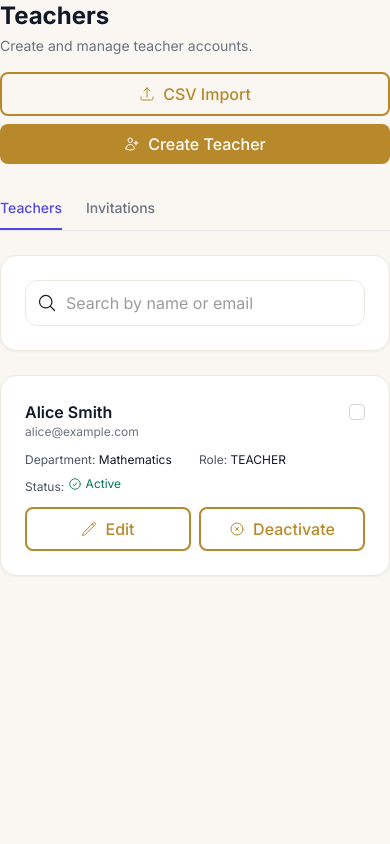
TeachersPage › edit modal › clicking Edit opens modal pre-populated with teacher fields
The image size is (390, 844).
Mobile card Edit button (desktop table has icon-only edit button)
What coordinates should you click on to do the following:
click the button "Edit"
I would click on:
 (108, 529)
Its box is x1=25 y1=507 x2=191 y2=551.
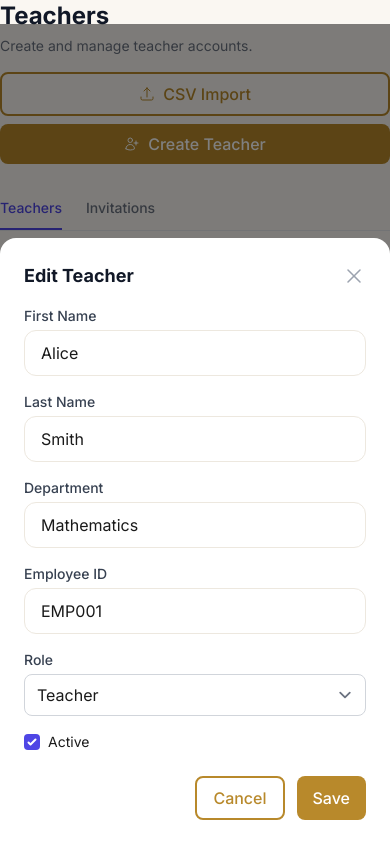
Check: the heading "Edit Teacher" is shown, box x1=24 y1=262 x2=134 y2=290
Check: the field showing "Alice" is shown, box x1=24 y1=330 x2=366 y2=376
Check: the field showing "Smith" is shown, box x1=24 y1=416 x2=366 y2=462
